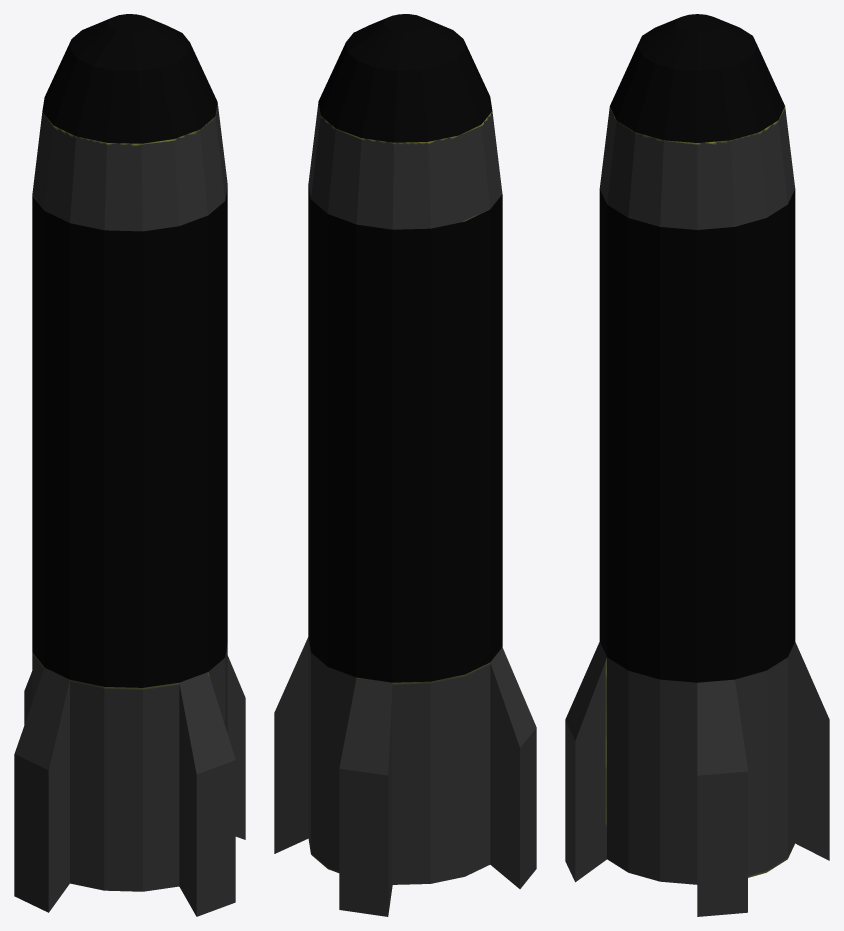
Rendered from Missile.glb.
3 renders of one model, left to right at view 1: azimuth 30°, elevation 25°; view 2: azimuth 150°, elevation 25°; view 3: azimuth 270°, elevation 25°, orthographic.
Parts seen in each view (by area): view 1: Cylinder; view 2: Cylinder; view 3: Cylinder.
Part boxes in pixels (x1,y1,x2,y2): Cylinder: (14,14,245,916); Cylinder: (274,14,536,916); Cylinder: (565,14,829,916).
Size of the model in its own units: 0.7989 by 2.79 by 0.7989.
1 material, 1 textured.
